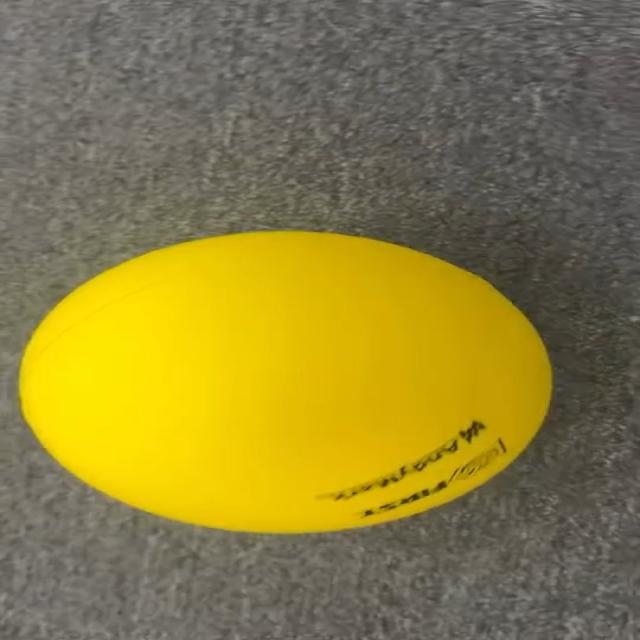Fuels: (20, 233, 551, 531)
